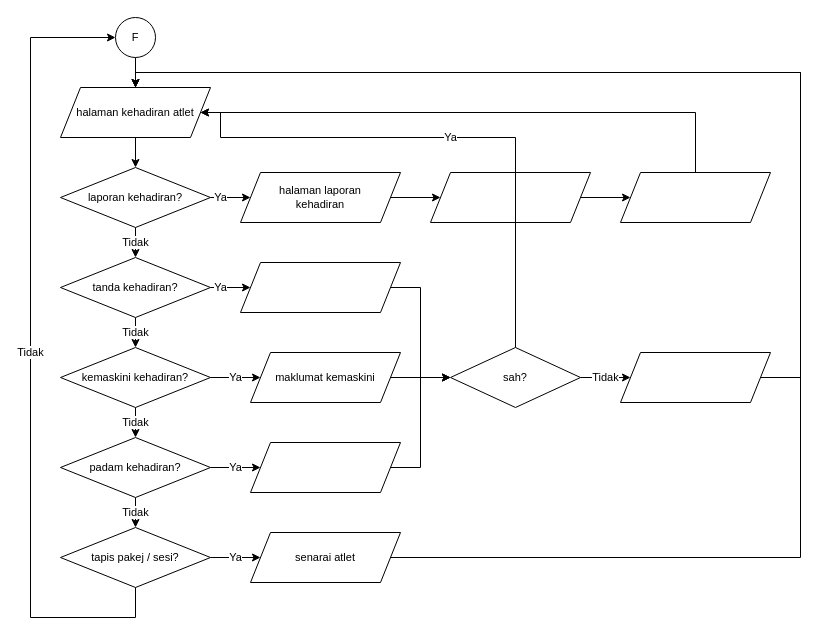
Image size: 826x643. Some labels were removed from this diagram. Here are the shapes that lost their labels. From the top down, the centre of each, then its label:
point (510, 197): pilih atlet, pakej dan tempoh
point (695, 197): laporan kehadiran PDF
point (320, 287): tarikh, sesi dan status kehadiran
point (695, 377): papar "Gagal kemaskini maklumat"
point (325, 467): maklumat padam
